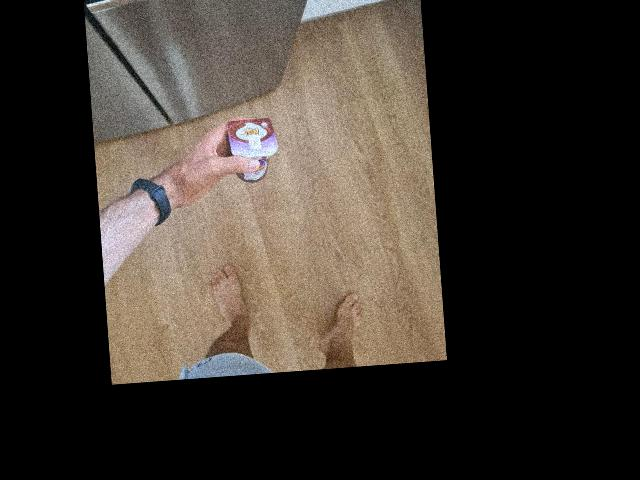milky: (223, 116, 279, 185)
